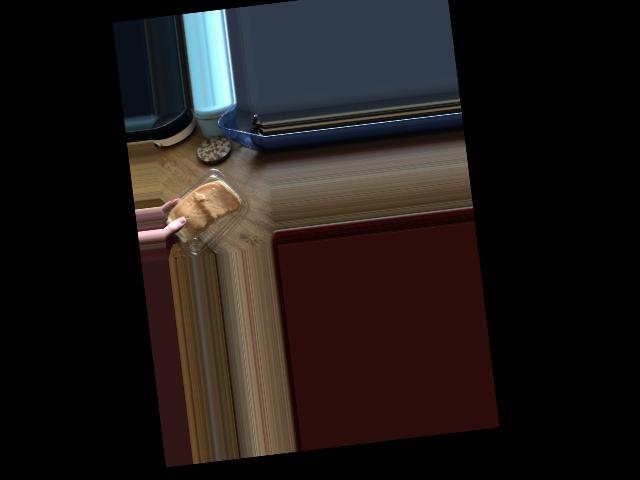cheese: (163, 156, 263, 256)
